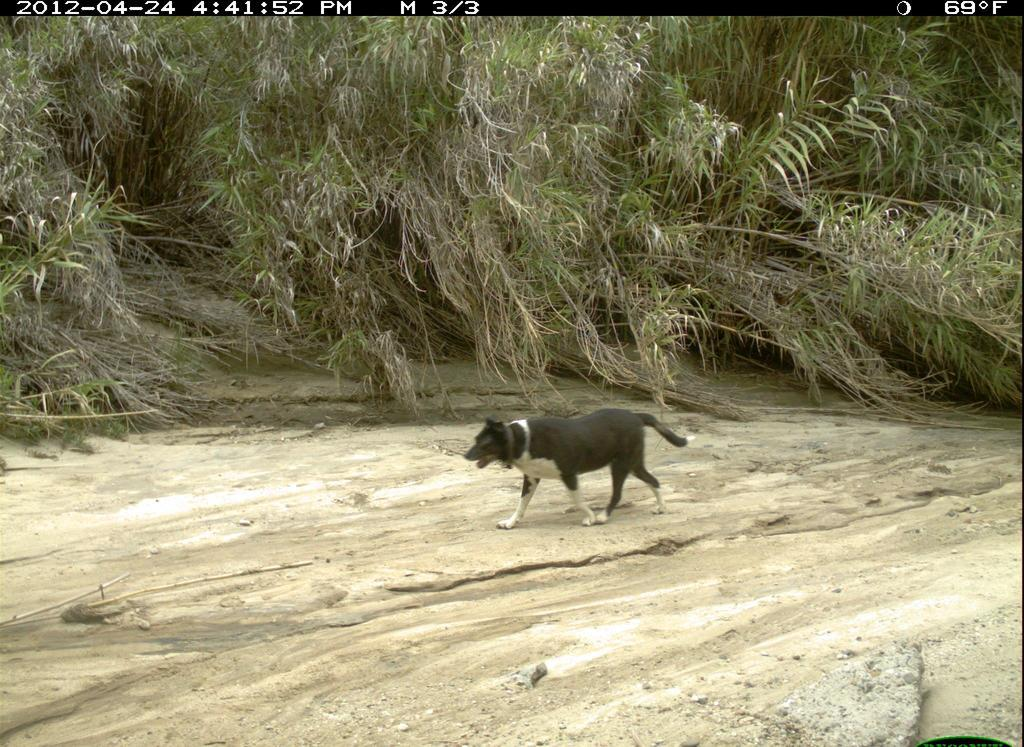dog: (464, 408, 699, 534)
